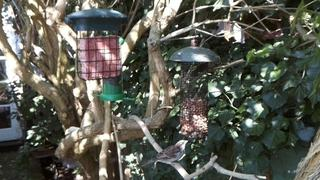sparrow: (141, 140, 189, 168)
